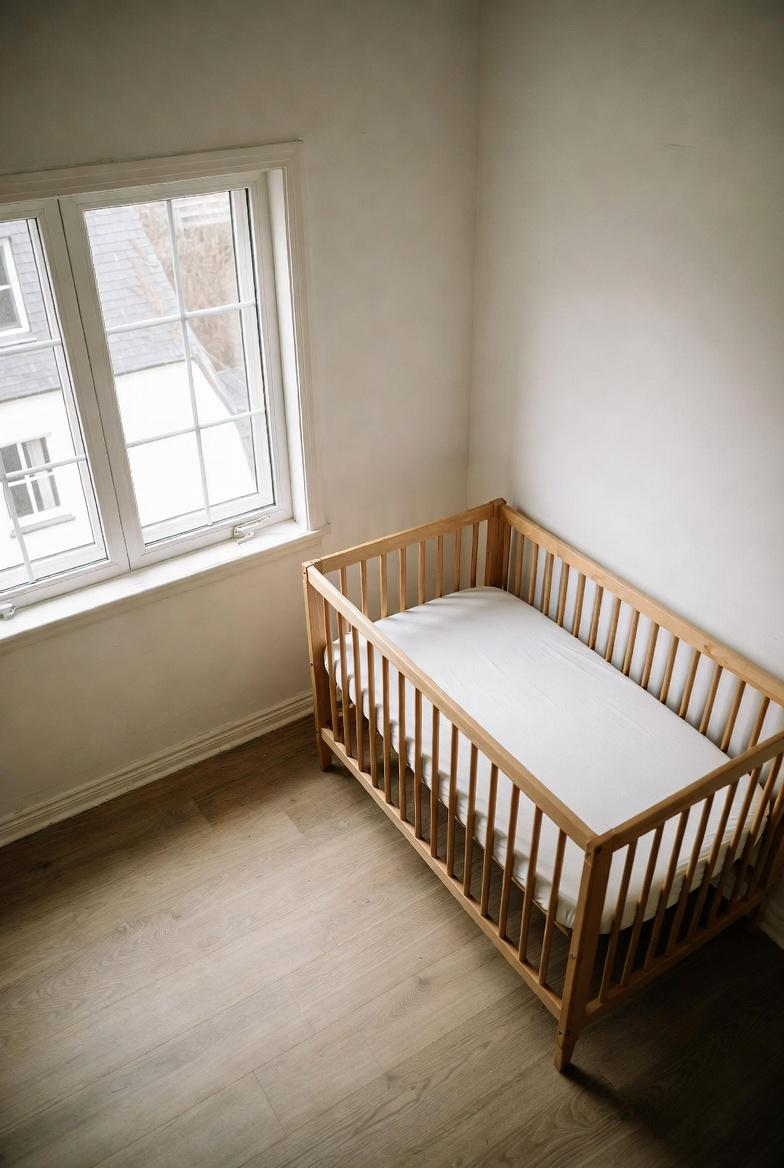crib: (290, 488, 784, 1078)
